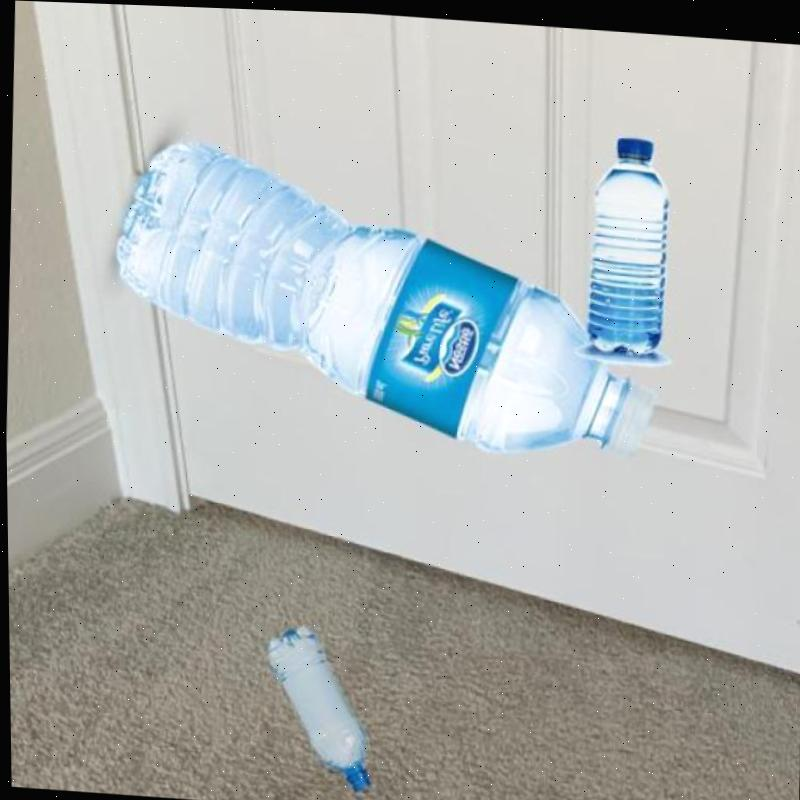botella: (102, 136, 664, 460), (572, 126, 674, 351), (259, 620, 372, 794)
